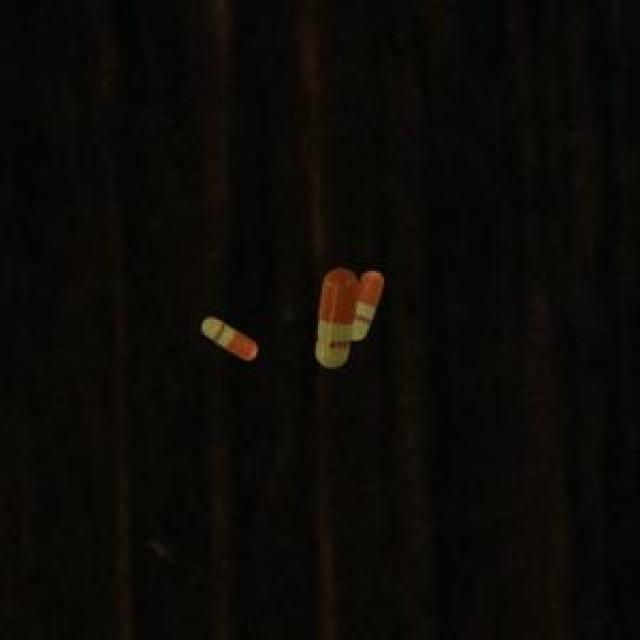Alaxan: (312, 265, 387, 371), (194, 309, 264, 371)
